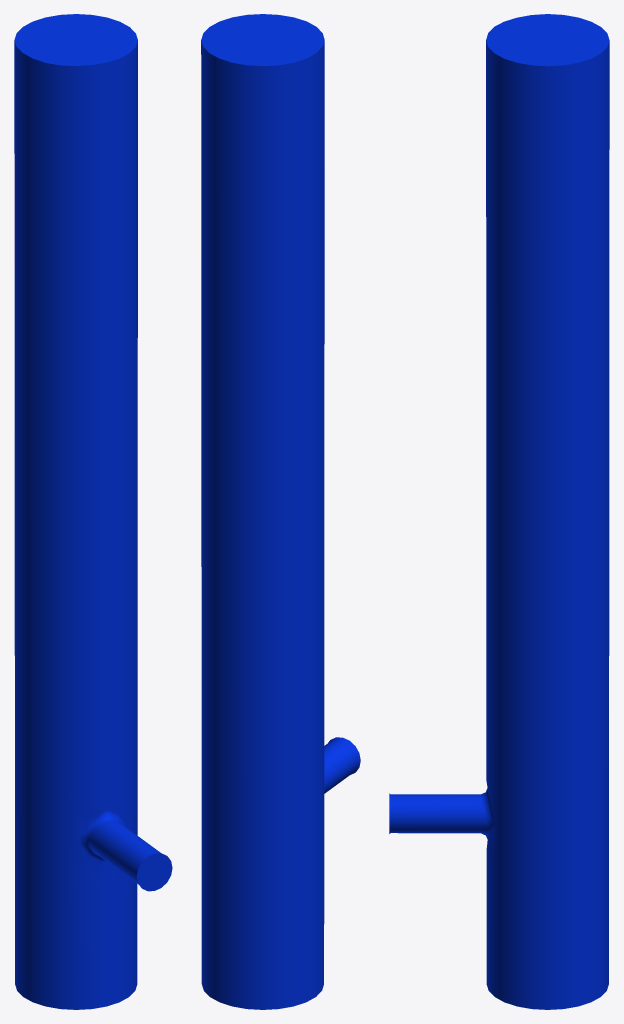
The model's file is Chemical_22.fbx.
3 views of the same model, side by side, from view 1: azimuth 30°, elevation 25°; view 2: azimuth 150°, elevation 25°; view 3: azimuth 270°, elevation 25° (orthographic).
Visible parts, largest first — view 1: transparent_bottles_Detached04.003; view 2: transparent_bottles_Detached04.003; view 3: transparent_bottles_Detached04.003.
Part boxes in pixels (x1=…): transparent_bottles_Detached04.003: x1=14, y1=14, x2=172, y2=1009; transparent_bottles_Detached04.003: x1=201, y1=14, x2=360, y2=1009; transparent_bottles_Detached04.003: x1=389, y1=14, x2=609, y2=1009.
Size of the model in its own units: 2.36 by 19.9 by 4.2.
